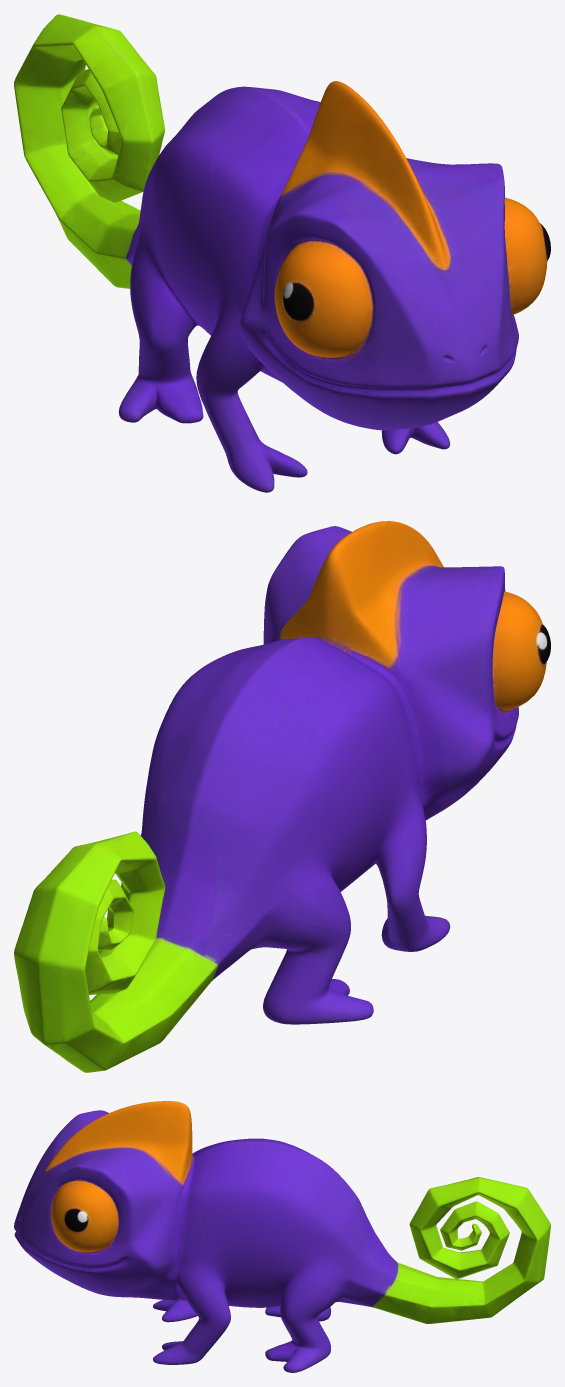
The model's file is Meshy_AI_Neon_Spiral_Tail_Cham_0913050914_texture.glb.
The picture shows the model from 3 angles, top to bottom: view 1: azimuth 30°, elevation 25°; view 2: azimuth 150°, elevation 25°; view 3: azimuth 270°, elevation 25°; orthographic projection. The views are drawn at different scales.
Parts seen in each view (by area): view 1: Mesh_0; view 2: Mesh_0; view 3: Mesh_0.
Part boxes in pixels (left/top/right/bottom): Mesh_0: left=14, top=14, right=550, bottom=492; Mesh_0: left=14, top=521, right=550, bottom=1072; Mesh_0: left=14, top=1101, right=550, bottom=1372.
Bounding box in the file's own units: 0.6958 × 0.9647 × 2.
1 material, 1 textured.
